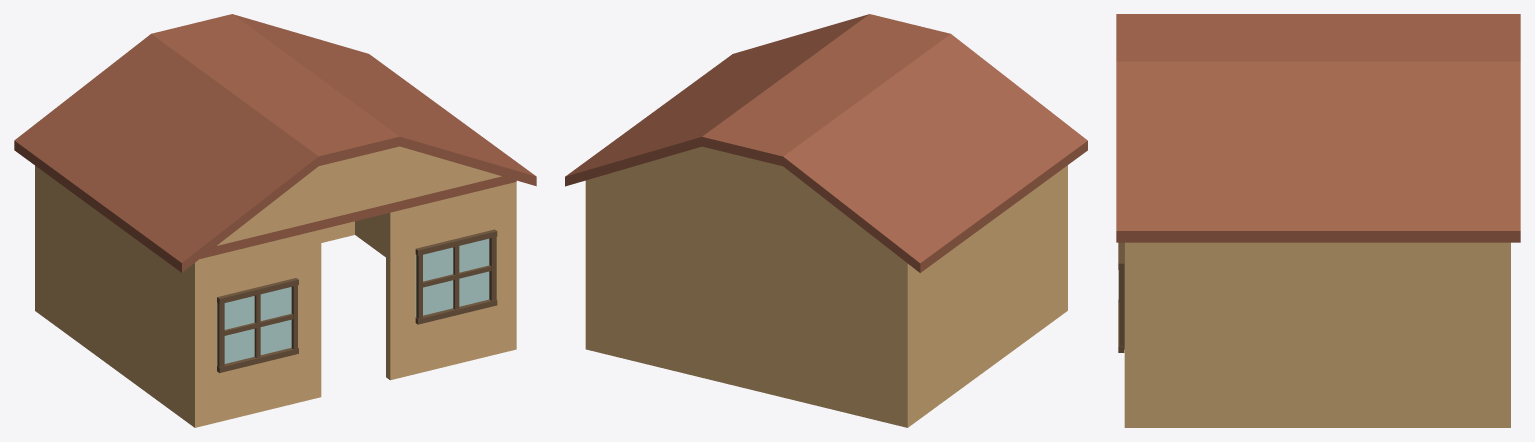
Rendered from House.fbx.
3 views of the same model, side by side, from view 1: azimuth 30°, elevation 25°; view 2: azimuth 150°, elevation 25°; view 3: azimuth 270°, elevation 25° (orthographic). The views are drawn at different scales.
Visible parts, largest first — view 1: House; view 2: House; view 3: House.
Part boxes in pixels (x1,y1,x2,y2): House: (14, 14, 536, 427); House: (565, 14, 1087, 427); House: (1116, 14, 1520, 427).
Size of the model in its own units: 421 by 277 by 344.
